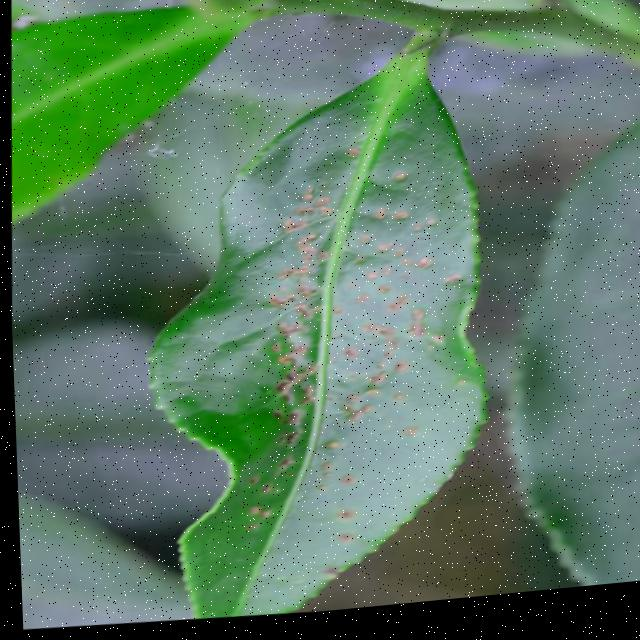Tea red scab: (220, 141, 439, 554)
